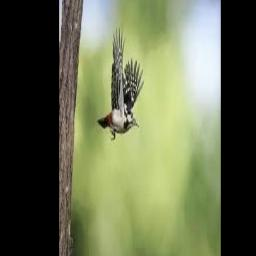Woodpecker: (98, 24, 144, 140)
